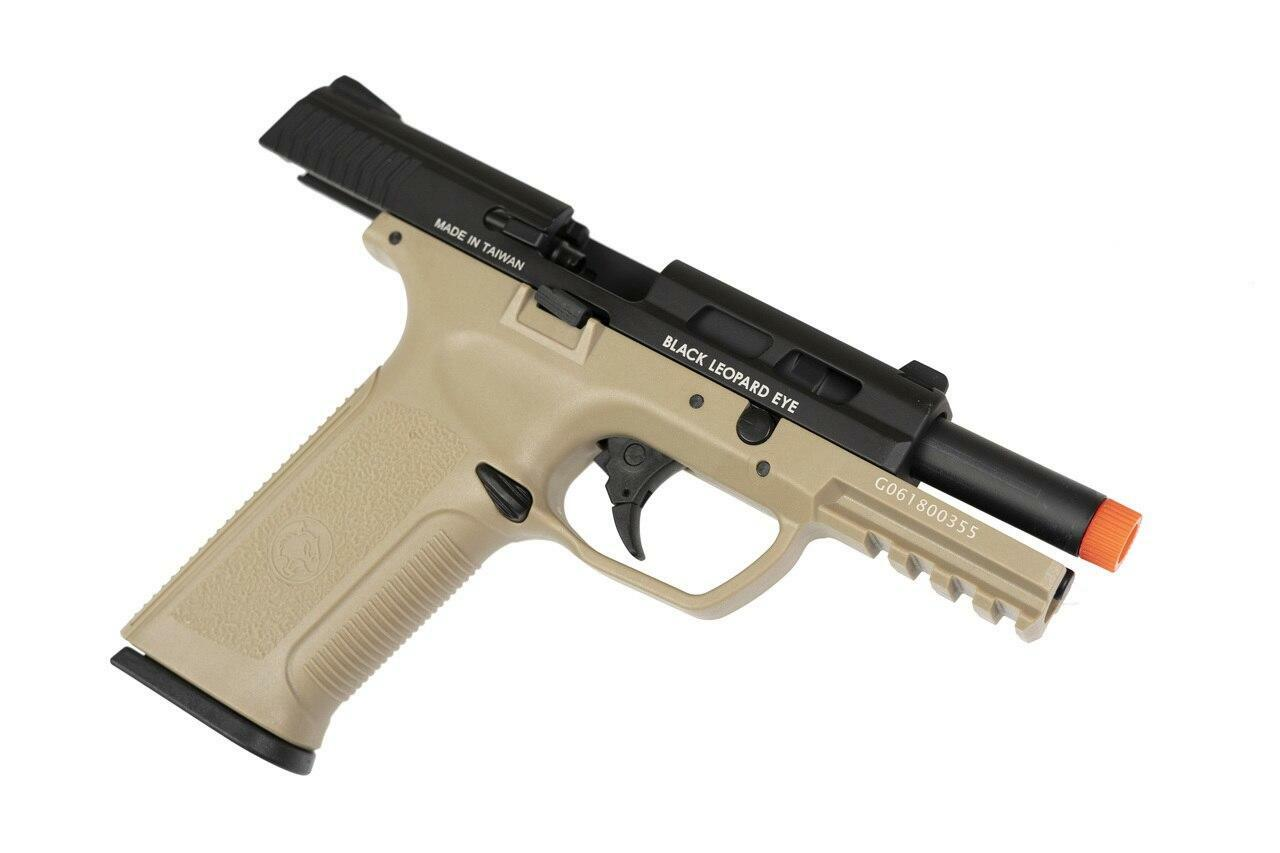asg_ics_ble_xae: (110, 58, 1147, 801)
